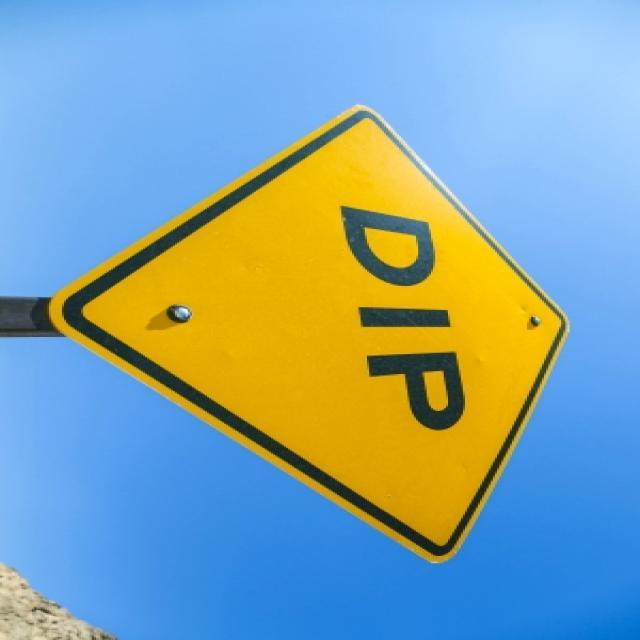Traffic sign: (44, 99, 576, 574)
